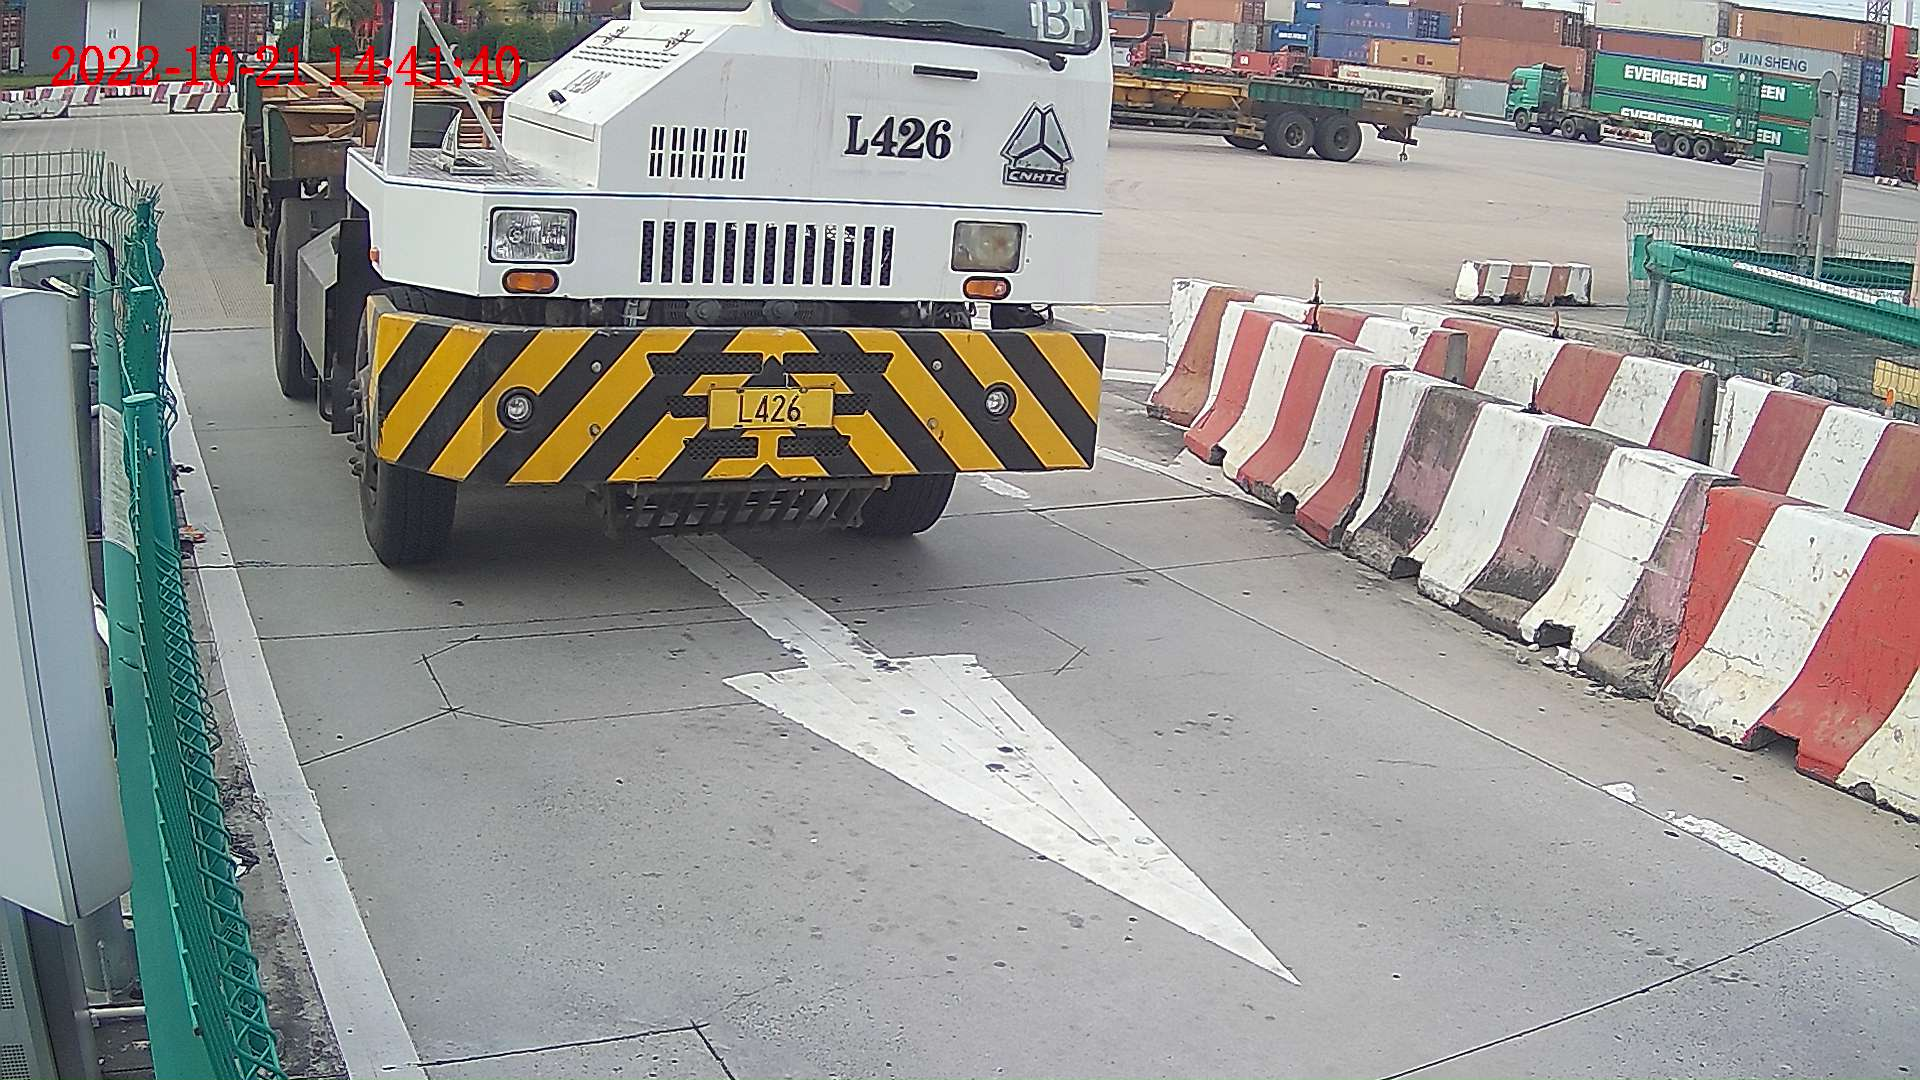head: (301, 1, 1116, 564)
plate: (712, 390, 833, 430)
